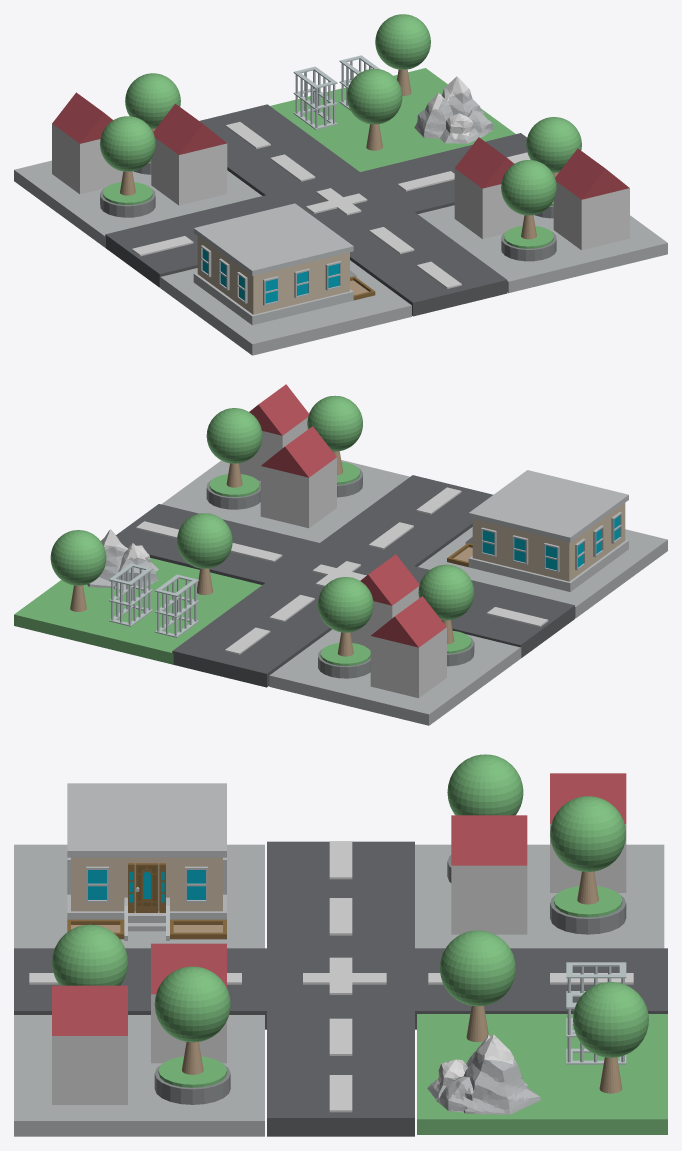
File: Ciudad.glb
The picture shows the model from 3 angles, top to bottom: view 1: azimuth 30°, elevation 25°; view 2: azimuth 150°, elevation 25°; view 3: azimuth 270°, elevation 25°; orthographic projection. The views are drawn at different scales.
Parts seen in each view (by area): view 1: Mesh_Mesh_head_geo.001_lambert2SG.001; view 2: Mesh_Mesh_head_geo.001_lambert2SG.001; view 3: Mesh_Mesh_head_geo.001_lambert2SG.001.
Part boxes in pixels (box(x1,y1,x2,y2)): Mesh_Mesh_head_geo.001_lambert2SG.001: box(14, 14, 667, 355); Mesh_Mesh_head_geo.001_lambert2SG.001: box(14, 384, 667, 725); Mesh_Mesh_head_geo.001_lambert2SG.001: box(14, 754, 667, 1136).
Bounding box in the file's own units: 172 × 39 × 172.
